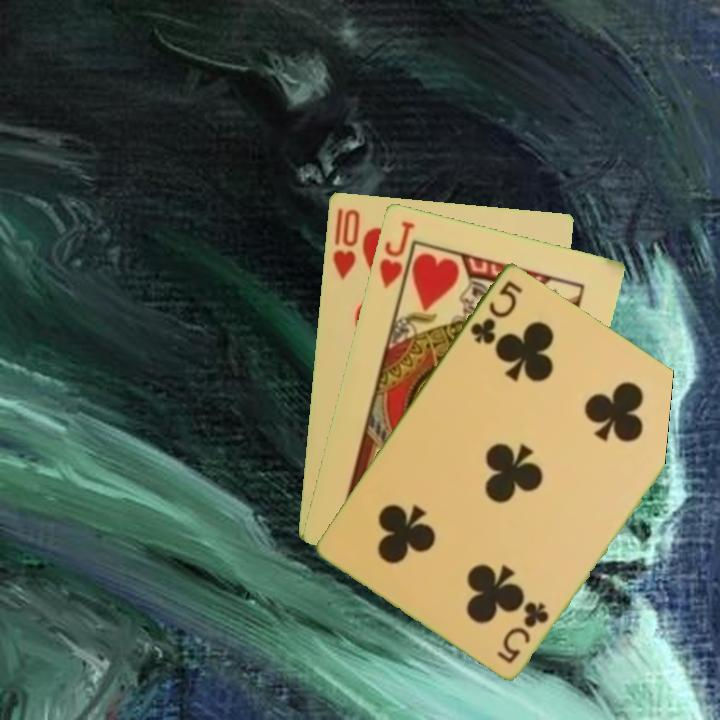10h: (329, 204, 362, 282)
5c: (466, 276, 526, 347), (493, 598, 552, 666)
Jh: (375, 217, 417, 291)
